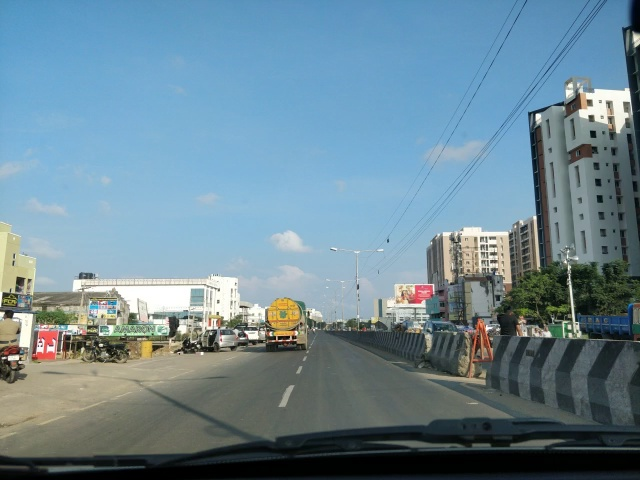car: (191, 330, 240, 352), (424, 319, 461, 345), (236, 325, 260, 348)
motorbike: (2, 302, 26, 383), (86, 338, 135, 365)
person: (496, 306, 520, 343)
truck: (578, 300, 639, 338), (266, 298, 308, 351)
